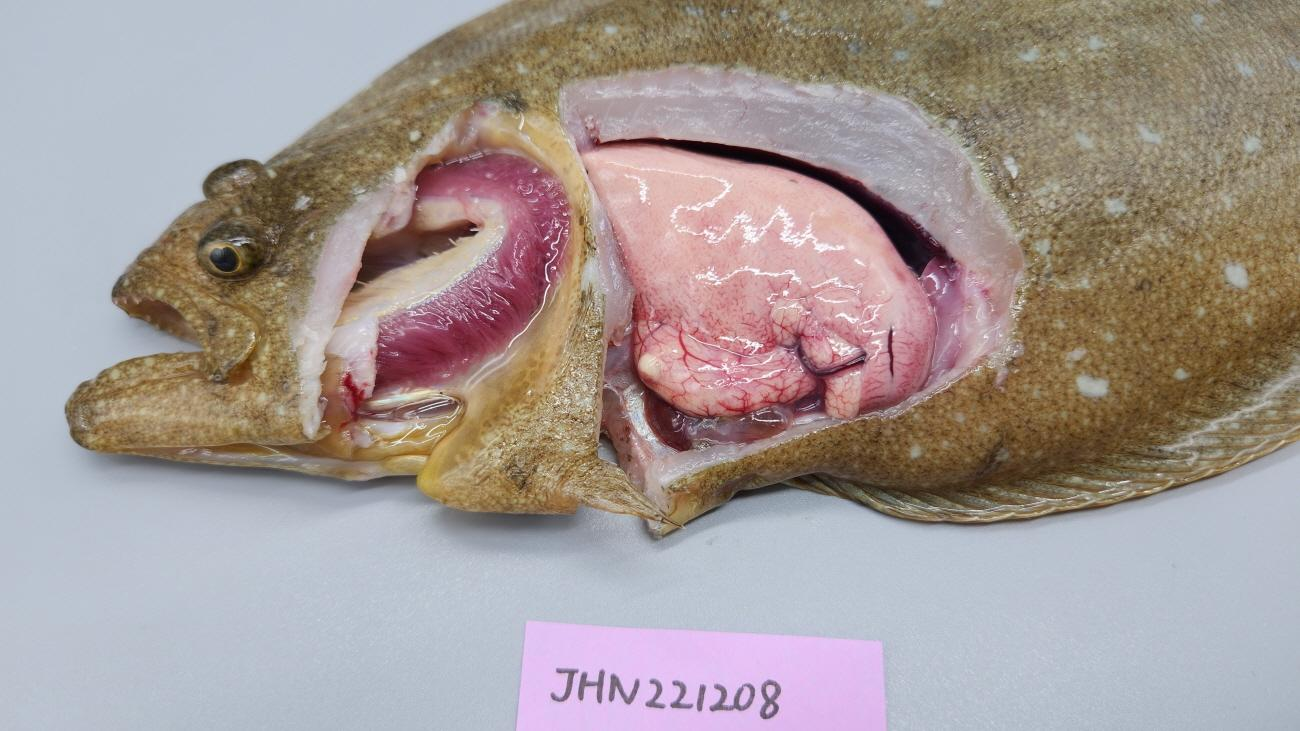POGIN: (375, 149, 573, 395)
POLIN: (580, 140, 937, 412)
